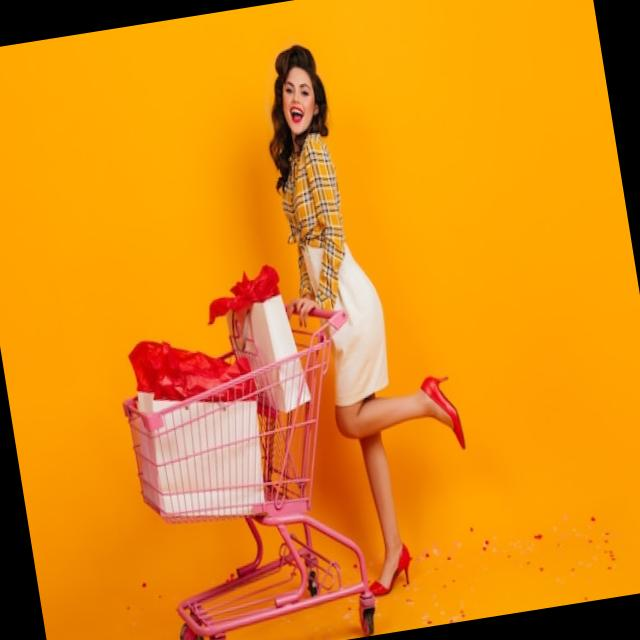Person: (246, 29, 486, 602)
